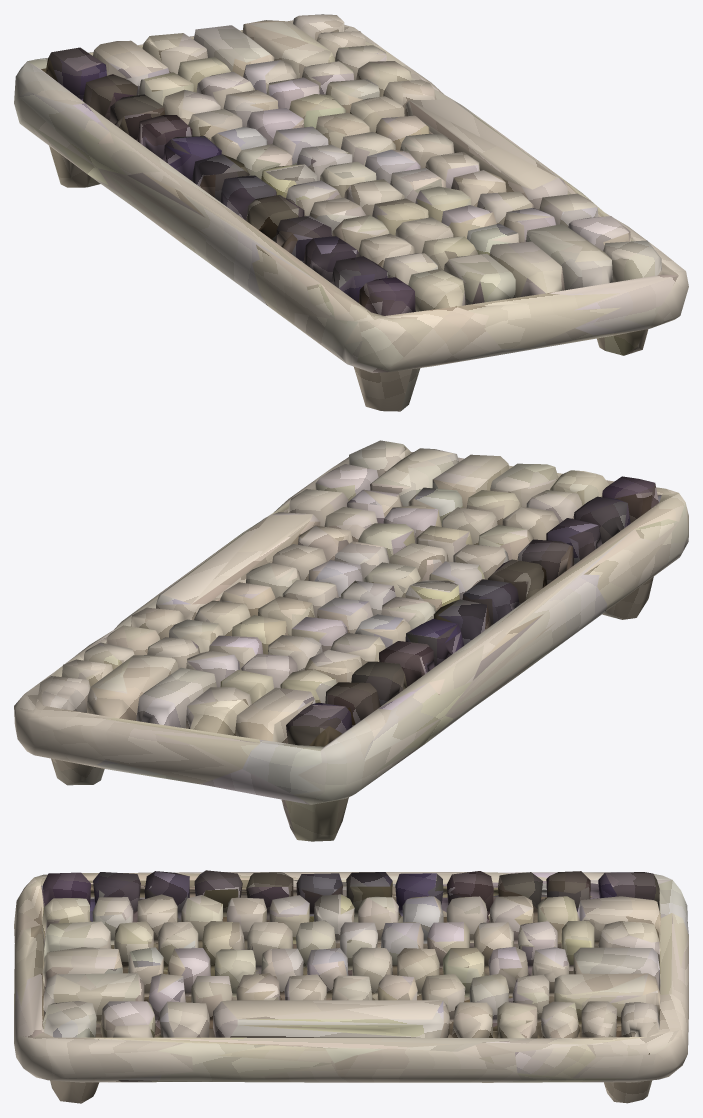
File: JP_사물_s2_office_keyboard.glb
3 views of the same model, one above another, from view 1: azimuth 30°, elevation 25°; view 2: azimuth 150°, elevation 25°; view 3: azimuth 270°, elevation 25° (orthographic). The views are drawn at different scales.
Parts seen in each view (by area): view 1: tripo_node_cc6adb58-81c4-481a-b835-144644dfcdb7; view 2: tripo_node_cc6adb58-81c4-481a-b835-144644dfcdb7; view 3: tripo_node_cc6adb58-81c4-481a-b835-144644dfcdb7.
Boxes of the visible parts, bbox=[...] form: tripo_node_cc6adb58-81c4-481a-b835-144644dfcdb7: bbox=[14, 14, 688, 411]; tripo_node_cc6adb58-81c4-481a-b835-144644dfcdb7: bbox=[14, 440, 688, 841]; tripo_node_cc6adb58-81c4-481a-b835-144644dfcdb7: bbox=[14, 870, 688, 1103].
Size of the model in its own units: 0.5365 by 0.1836 by 0.9998.
1 material, 1 textured.
